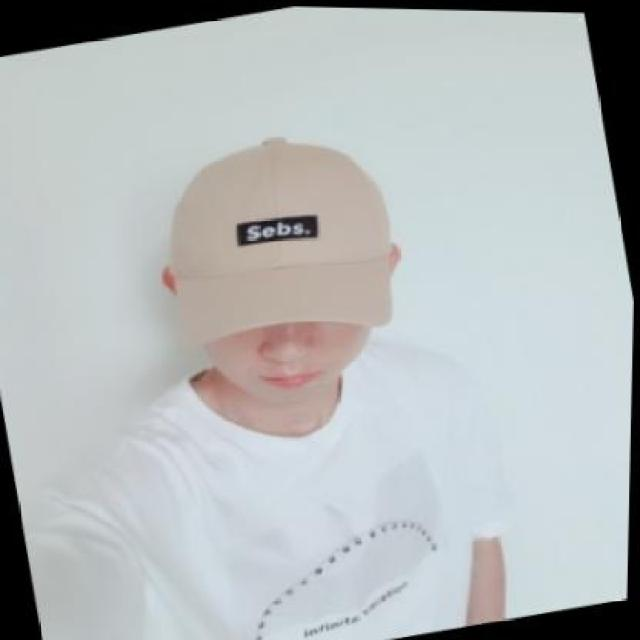hat: (139, 101, 424, 365)
